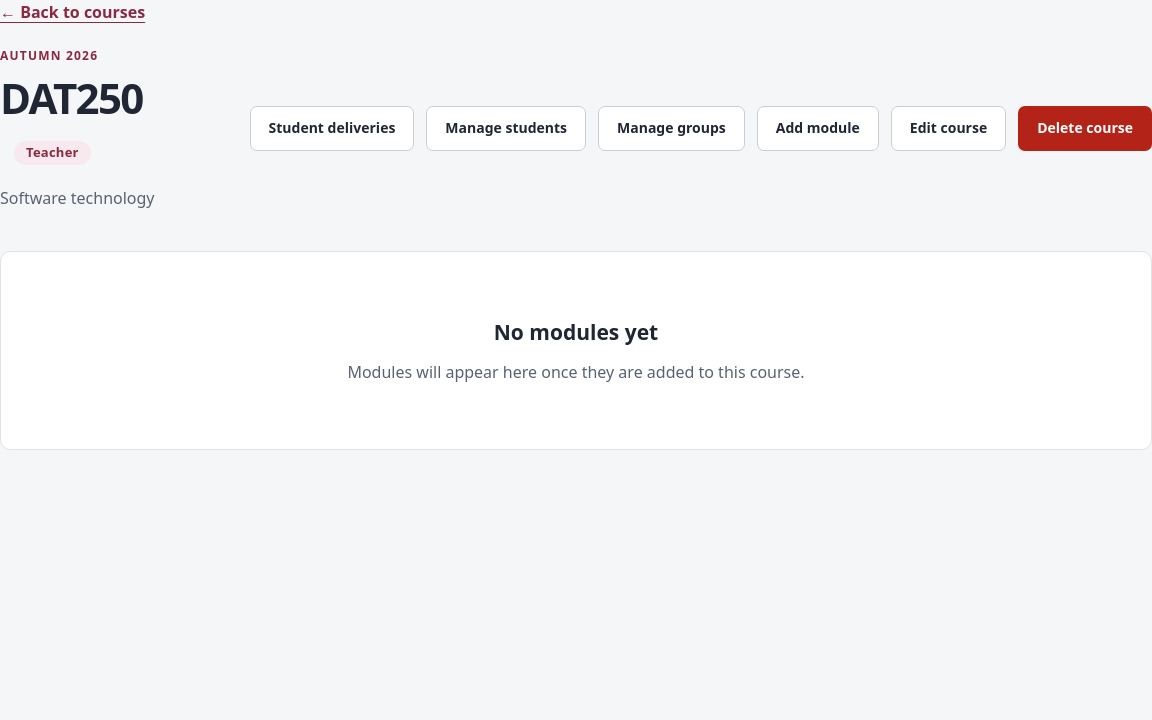
Test: CourseDetailPage › shows a "Manage students" button for a teacher that opens the roster
Click the button "Manage students" at (506, 128), box [426, 106, 586, 151]
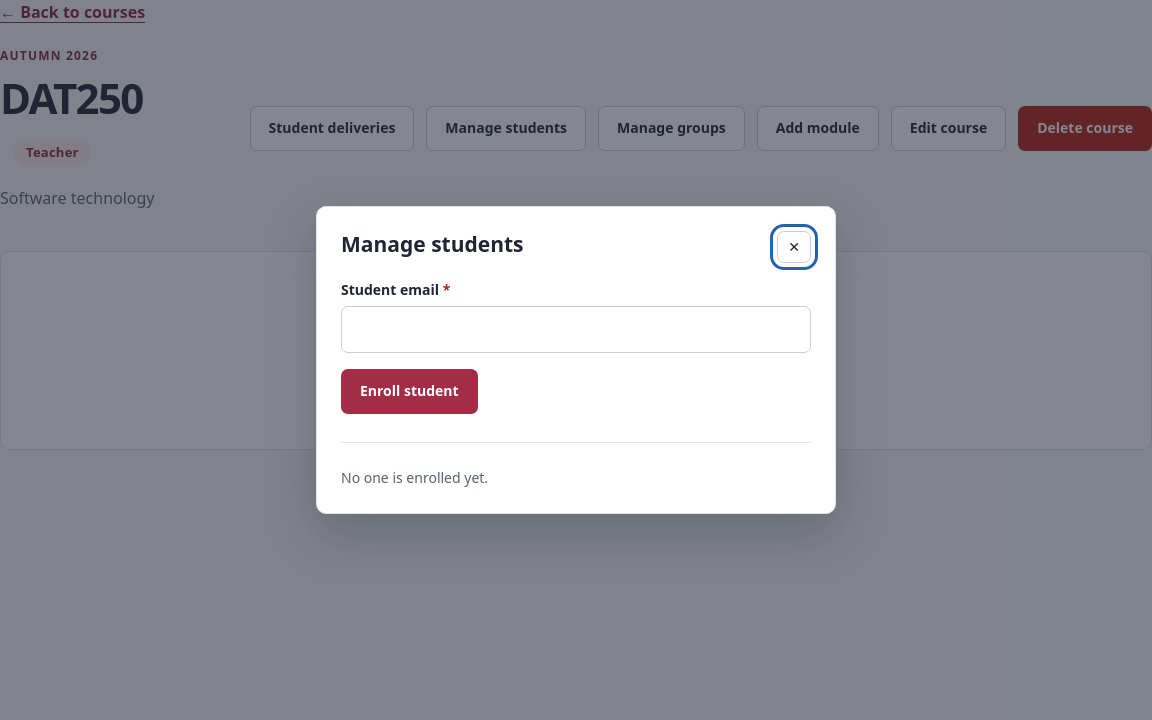
expect the heading "Manage students" is shown: met, box [341, 231, 524, 258]
